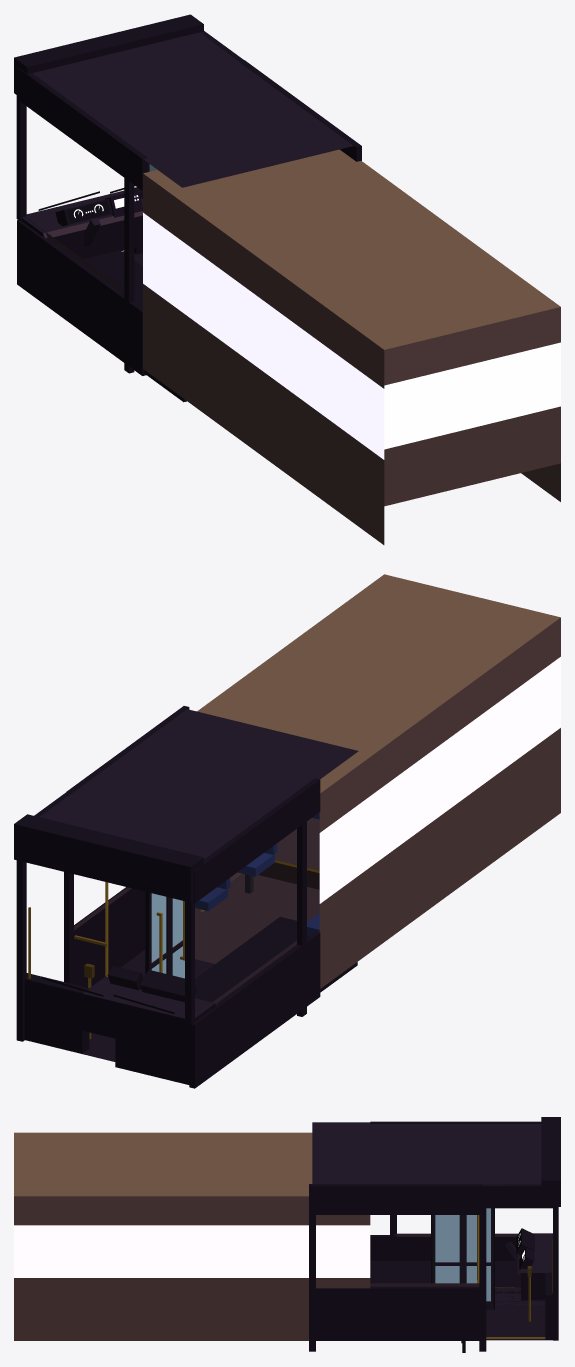
The model's file is bus_cab-Bw7mhk--.glb.
3 views of the same model, one above another, from view 1: azimuth 30°, elevation 25°; view 2: azimuth 150°, elevation 25°; view 3: azimuth 270°, elevation 25° (orthographic). The views are drawn at different scales.
Parts seen in each view (by area): view 1: interior, cab_static; view 2: interior, cab_static, door_leaf_b, door_leaf_a; view 3: interior, cab_static, door_leaf_a, door_leaf_b.
Part boxes in pixels (left/top/right/bottom): interior: left=143, top=149, right=560, bottom=544; cab_static: left=14, top=14, right=361, bottom=402; interior: left=195, top=574, right=560, bottom=988; cab_static: left=14, top=706, right=358, bottom=1088; door_leaf_b: left=145, top=891, right=170, bottom=974; door_leaf_a: left=170, top=898, right=184, bottom=978; interior: left=14, top=1132, right=370, bottom=1340; cab_static: left=309, top=1117, right=560, bottom=1351; door_leaf_a: left=431, top=1215, right=462, bottom=1283; door_leaf_b: left=463, top=1208, right=494, bottom=1309.
Bounding box in the file's own units: 2.62 × 3.67 × 9.44.
